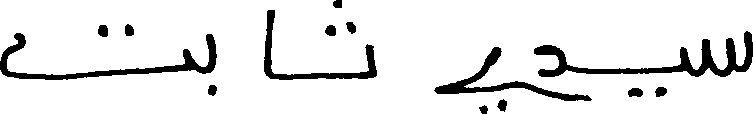ا: (261, 8, 274, 80)
ب: (203, 31, 215, 95)
ت: (0, 21, 192, 80)
ث: (320, 0, 377, 80)
د: (533, 43, 568, 79)
س: (699, 28, 750, 77)
ى: (625, 45, 689, 101)
ي: (431, 44, 520, 111)
